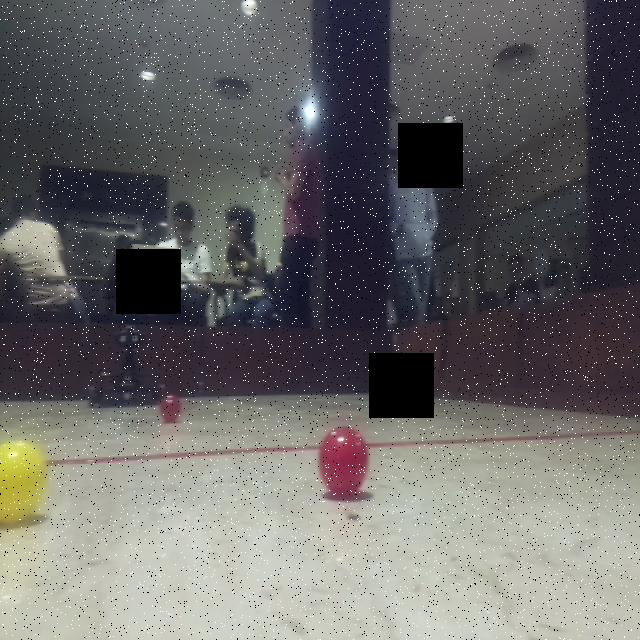ball: (3, 432, 50, 528), (317, 422, 371, 498), (156, 392, 185, 423)
